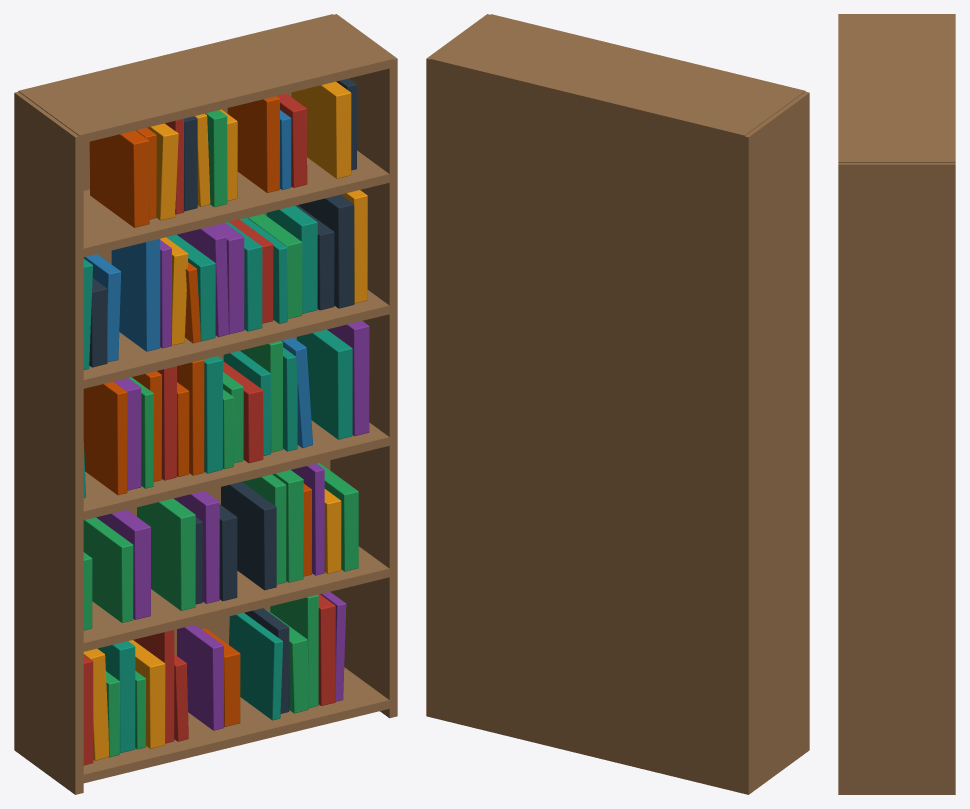
The model's file is bookshelf.fbx.
3 views of the same model, side by side, from view 1: azimuth 30°, elevation 25°; view 2: azimuth 150°, elevation 25°; view 3: azimuth 270°, elevation 25° (orthographic). The views are drawn at different scales.
Parts seen in each view (by area): view 1: Bookshelf; view 2: Bookshelf; view 3: Bookshelf.
Part boxes in pixels (x1,y1,x2,y2): Bookshelf: (14,14,397,794); Bookshelf: (426,14,809,794); Bookshelf: (838,14,955,794).
Bounding box in the file's own units: 0.975 × 1.9 × 0.32.
